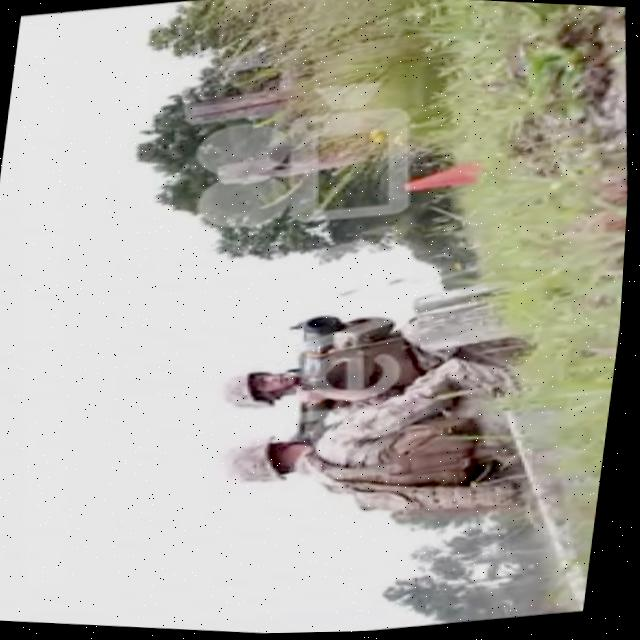rocket: (285, 311, 363, 434)
